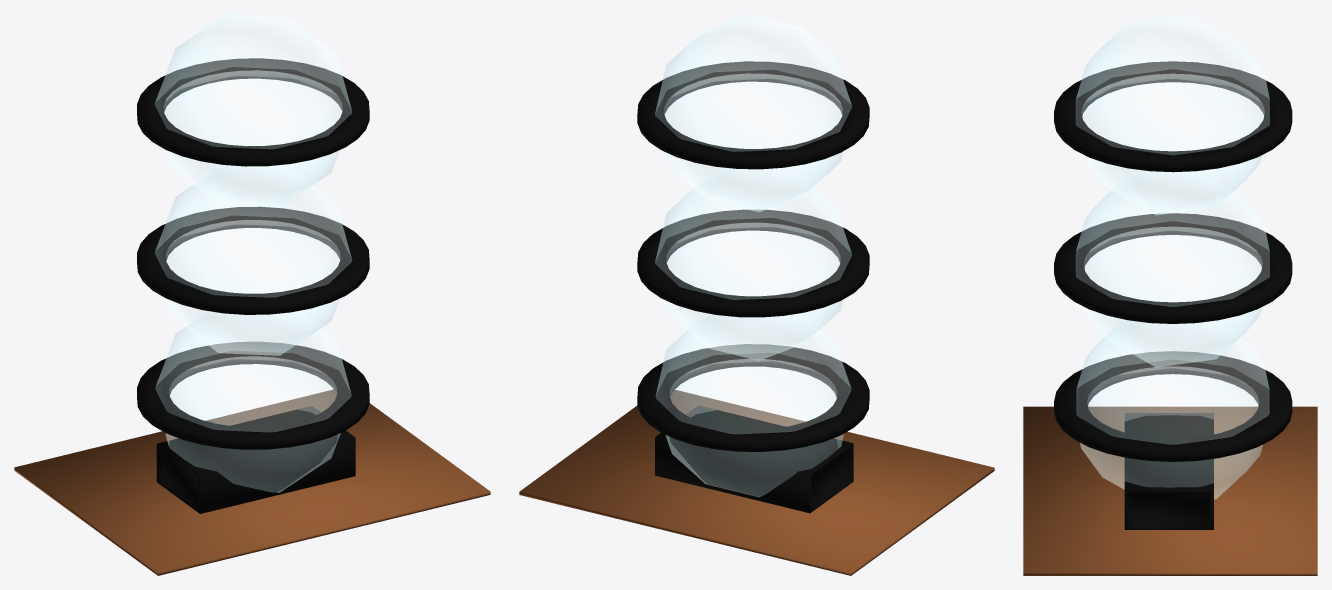
File: building5.glb
3 views of the same model, side by side, from view 1: azimuth 30°, elevation 25°; view 2: azimuth 150°, elevation 25°; view 3: azimuth 270°, elevation 25° (orthographic). The views are drawn at different scales.
Parts seen in each view (by area): view 1: Sphere Building; view 2: Sphere Building; view 3: Sphere Building.
Boxes of the visible parts, x1,y1,x2,y2 form: Sphere Building: [14, 14, 490, 575]; Sphere Building: [519, 14, 994, 575]; Sphere Building: [1023, 14, 1317, 575].
Size of the model in its own units: 66.75 by 89.6 by 50.04.
